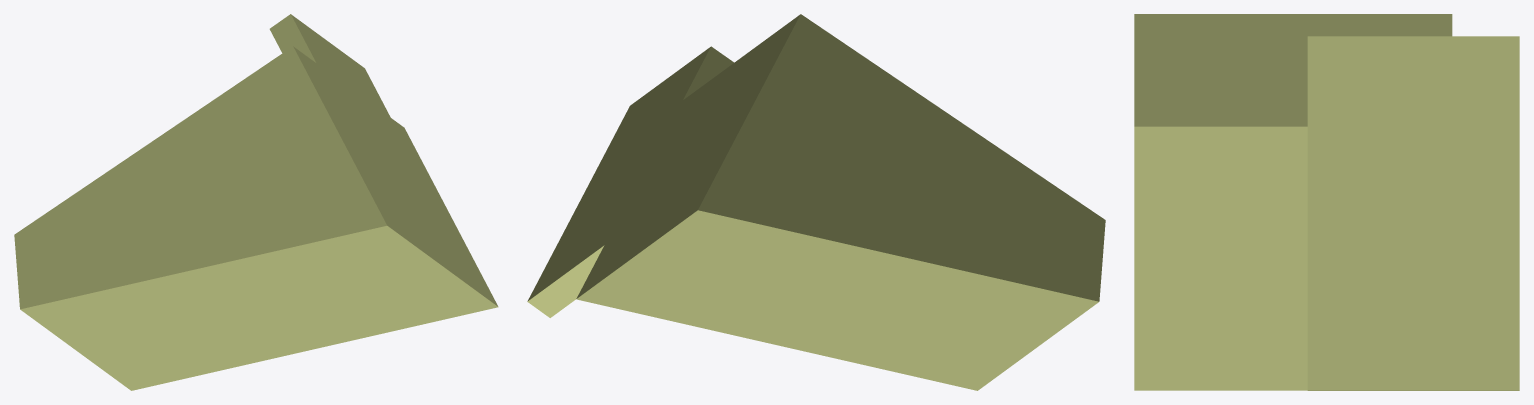
The picture shows the model from 3 angles, left to right: view 1: azimuth 30°, elevation 25°; view 2: azimuth 150°, elevation 25°; view 3: azimuth 270°, elevation 25°; orthographic projection. The views are drawn at different scales.
Parts seen in each view (by area): view 1: 0_1_2_0_3_3_2_0_0_1; view 2: 0_1_2_0_3_3_2_0_0_1; view 3: 0_1_2_0_3_3_2_0_0_1.
Part boxes in pixels (x1,y1,x2,y2): 0_1_2_0_3_3_2_0_0_1: [14, 14, 498, 390]; 0_1_2_0_3_3_2_0_0_1: [527, 14, 1105, 390]; 0_1_2_0_3_3_2_0_0_1: [1134, 14, 1519, 390].
Size of the model in its own units: 18.38 by 9.46 by 10.91.
